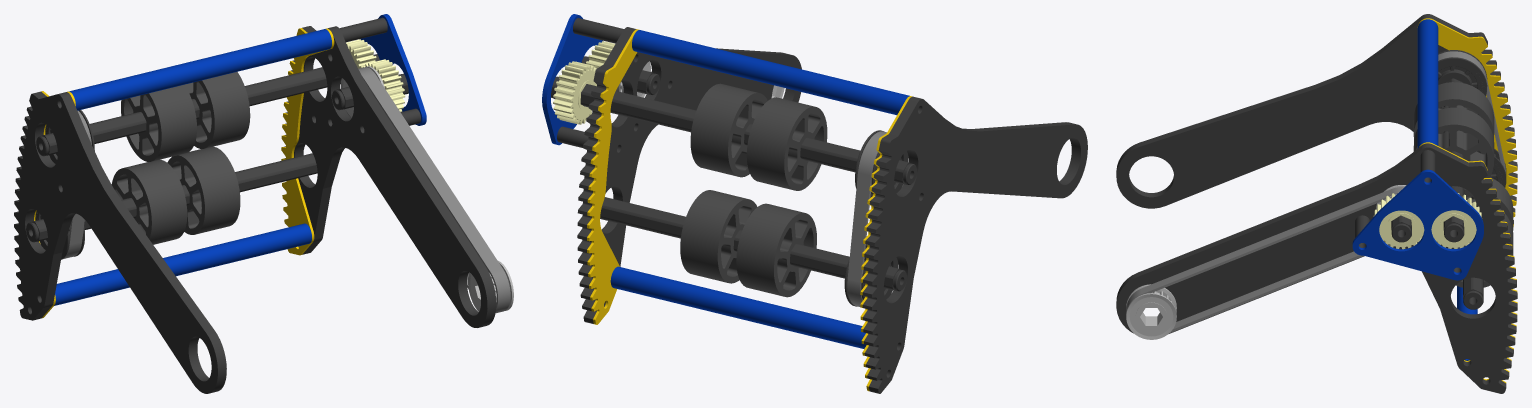
3 renders of one model, left to right at view 1: azimuth 30°, elevation 25°; view 2: azimuth 150°, elevation 25°; view 3: azimuth 270°, elevation 25°, orthographic. The views are drawn at different scales.
Visible parts, largest first — view 1: TURRET-25A-1006 Interior Left Plate, TURRET-25A-1002 interior right plate, 2" OD 60A Straight Flex Wheel (217-6446) (×8), TURRET-25A-1008 large Middle Shooter Stand Off (×2), 87T HTD Belt, TURRET-25A-1012 HUD Hex Shaft, TURRET-25A-1010 Interior Left Plate Cover, TURRET-25A-1018 HUD Roller Bottom Shaft, TURRET-25A-1011 Shooter GearBox Right Cover, 26t 20dp Aluminum 1/2" Hex Bore Gear (217-5465) (×2), TURRET-25A-1003 Shooter GearBox Right side Stand Off, 50T HTD Belt (+2 smaller); view 2: TURRET-25A-1006 Interior Left Plate, 2" OD 60A Straight Flex Wheel (217-6446) (×8), TURRET-25A-1008 large Middle Shooter Stand Off (×2), TURRET-25A-1002 interior right plate, TURRET-25A-1010 Interior Left Plate Cover (×2), TURRET-25A-1012 HUD Hex Shaft, TURRET-25A-1018 HUD Roller Bottom Shaft, 50T HTD Belt, TURRET-25A-1011 Shooter GearBox Right Cover, 26t 20dp Aluminum 1/2" Hex Bore Gear (217-5465), TURRET-25A-1003 Shooter GearBox Right side Stand Off (×2), TURRET-25A-1015 HUD Gearbox Shaft; view 3: TURRET-25A-1002 interior right plate, TURRET-25A-1006 Interior Left Plate, TURRET-25A-1011 Shooter GearBox Right Cover, 2" OD 60A Straight Flex Wheel (217-6446) (×4), 87T HTD Belt, TURRET-25A-1010 Interior Left Plate Cover (×2), TURRET-25A-1008 large Middle Shooter Stand Off, 26t 20dp Aluminum 1/2" Hex Bore Gear (217-5465) (×2), 18t 9mm Wide 1/2" Hex Bore Double Flange 5mm HTD Aluminum Pu, 24t 9mm Wide 1/2" Hex Bore Double Flange 5mm HTD Pulley Half, TURRET-25A-1012 HUD Hex Shaft, 50T HTD Belt (+2 smaller).
Boxes of the visible parts, x1,y1,x2,y2 form: TURRET-25A-1006 Interior Left Plate: (14, 91, 226, 393); TURRET-25A-1002 interior right plate: (284, 26, 496, 327); 2" OD 60A Straight Flex Wheel (217-6446) (×8): (111, 71, 250, 244); TURRET-25A-1008 large Middle Shooter Stand Off (×2): (54, 29, 331, 305); 87T HTD Belt: (358, 67, 510, 313); TURRET-25A-1012 HUD Hex Shaft: (36, 54, 379, 156); TURRET-25A-1010 Interior Left Plate Cover: (281, 28, 334, 255); TURRET-25A-1018 HUD Roller Bottom Shaft: (26, 153, 317, 242); TURRET-25A-1011 Shooter GearBox Right Cover: (359, 14, 426, 125); 26t 20dp Aluminum 1/2" Hex Bore Gear (217-5465) (×2): (346, 39, 405, 112); TURRET-25A-1003 Shooter GearBox Right side Stand Off: (339, 17, 387, 42); 50T HTD Belt: (49, 110, 91, 258); TURRET-25A-1006 Interior Left Plate: (862, 96, 1087, 393); 2" OD 60A Straight Flex Wheel (217-6446) (×8): (680, 83, 827, 297); TURRET-25A-1008 large Middle Shooter Stand Off (×2): (610, 30, 909, 348); TURRET-25A-1002 interior right plate: (577, 27, 801, 323); TURRET-25A-1010 Interior Left Plate Cover (×2): (587, 29, 912, 391); TURRET-25A-1012 HUD Hex Shaft: (551, 76, 916, 184); TURRET-25A-1018 HUD Roller Bottom Shaft: (600, 197, 906, 291); 50T HTD Belt: (847, 131, 903, 306); TURRET-25A-1011 Shooter GearBox Right Cover: (542, 14, 603, 145); 26t 20dp Aluminum 1/2" Hex Bore Gear (217-5465): (553, 61, 596, 124); TURRET-25A-1003 Shooter GearBox Right side Stand Off (×2): (557, 18, 623, 147); TURRET-25A-1015 HUD Gearbox Shaft: (581, 56, 660, 94); TURRET-25A-1002 interior right plate: (1116, 143, 1517, 393); TURRET-25A-1006 Interior Left Plate: (1116, 14, 1517, 224); TURRET-25A-1011 Shooter GearBox Right Cover: (1352, 169, 1483, 280); 2" OD 60A Straight Flex Wheel (217-6446) (×4): (1413, 82, 1494, 195); 87T HTD Belt: (1126, 187, 1404, 333); TURRET-25A-1010 Interior Left Plate Cover (×2): (1417, 18, 1517, 382); TURRET-25A-1008 large Middle Shooter Stand Off: (1417, 19, 1438, 147); 26t 20dp Aluminum 1/2" Hex Bore Gear (217-5465) (×2): (1373, 193, 1481, 249); 18t 9mm Wide 1/2" Hex Bore Double Flange 5mm HTD Aluminum Pu: (1126, 284, 1176, 339); 24t 9mm Wide 1/2" Hex Bore Double Flange 5mm HTD Pulley Half: (1438, 57, 1487, 108); TURRET-25A-1012 HUD Hex Shaft: (1443, 78, 1464, 242); 50T HTD Belt: (1438, 51, 1505, 173).
Bounding box in the file's own units: 0.2441 × 0.1717 × 0.2533.
